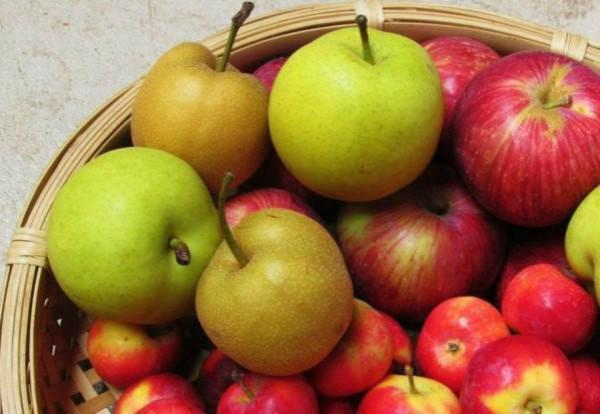apple: (450, 49, 600, 229), (331, 175, 498, 317), (306, 296, 401, 400), (457, 334, 579, 414), (413, 294, 514, 388), (501, 261, 600, 350), (83, 317, 180, 388), (216, 368, 316, 414), (355, 372, 461, 413), (110, 372, 203, 414)
